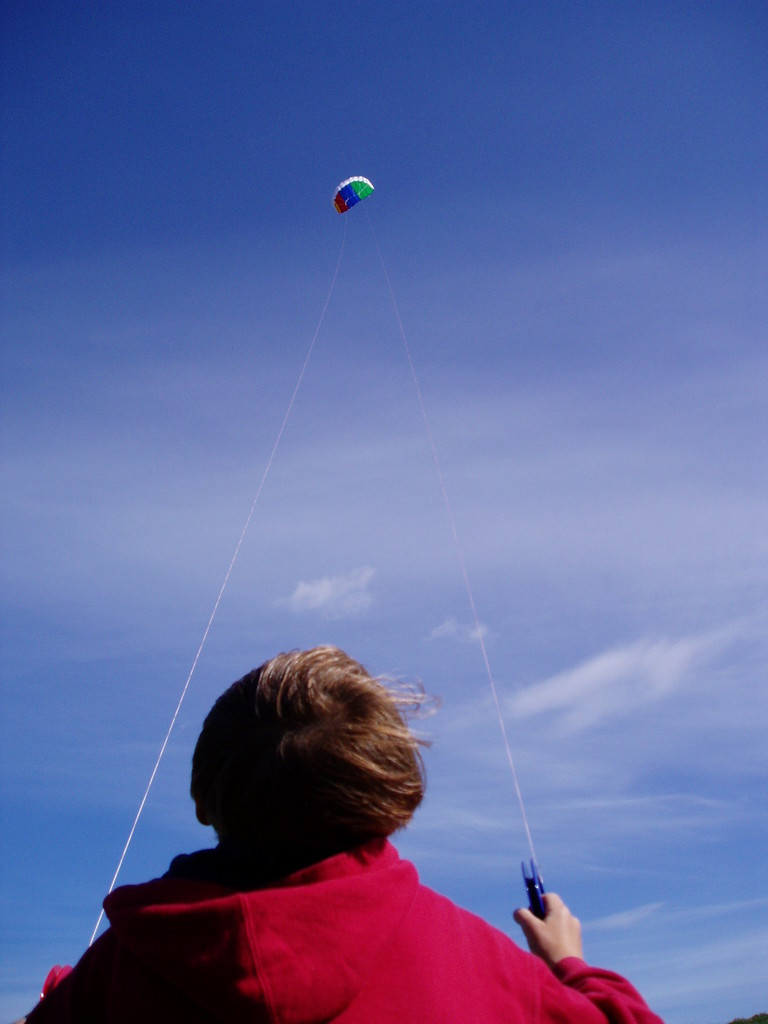Person: (0, 644, 664, 1024)
